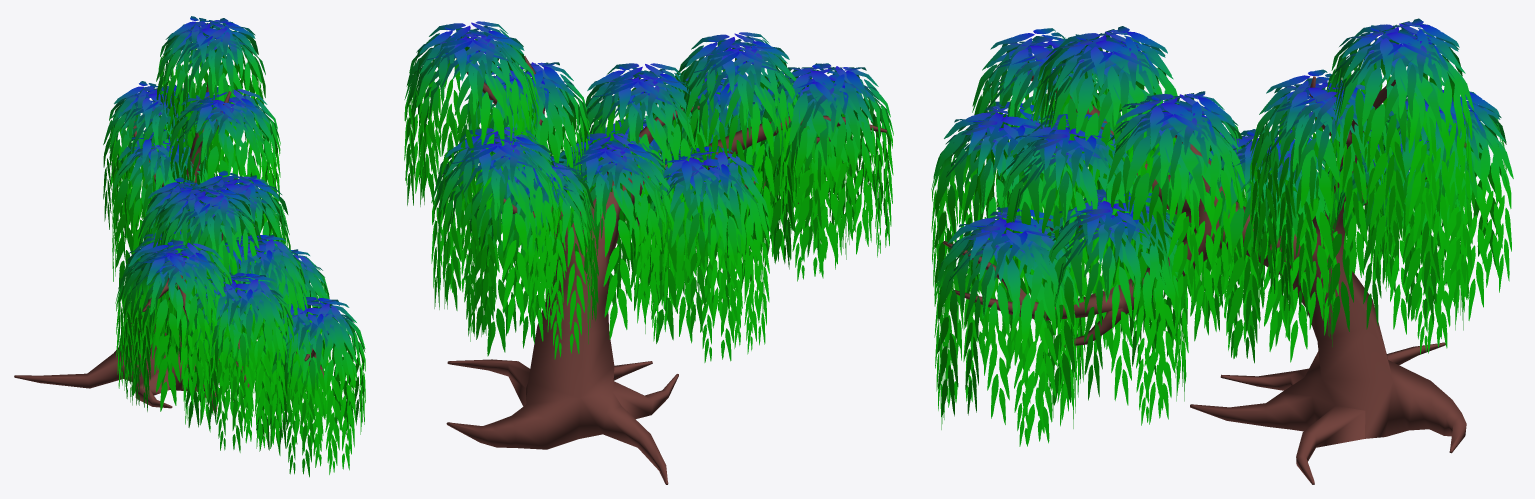
Rendered from OldWeepingWillow.fbx.
The picture shows the model from 3 angles, left to right: view 1: azimuth 30°, elevation 25°; view 2: azimuth 150°, elevation 25°; view 3: azimuth 270°, elevation 25°; orthographic projection. The views are drawn at different scales.
Parts seen in each view (by area): view 1: Willow Leaves.001, Willow Leaves.050, Willow Leaves.055, Willow Trunk 01.002, Willow Leaves.003, Willow Leaves.002, Willow Leaves.010, Willow Leaves.054, Willow Leaves.049, Willow Leaves.048, Willow Leaves.053, Willow Leaves.005 (+45 smaller); view 2: Willow Trunk 01.002, Willow Leaves.012, Willow Leaves.011, Willow Leaves.005, Willow Leaves.056, Willow Leaves.007, Willow Leaves.040, Willow Leaves.038, Willow Leaves.006, Willow Leaves.022, Willow Leaves.036, Willow Leaves.032 (+39 smaller); view 3: Willow Trunk 01.002, Willow Leaves.046, Willow Leaves.010, Willow Leaves.041, Willow Leaves.030, Willow Leaves.006, Willow Leaves.017, Willow Leaves.042, Willow Leaves.047, Willow Leaves.048, Willow Leaves.008, Willow Leaves.019 (+45 smaller).
Boxes of the visible parts, left/top/right/bottom form: Willow Leaves.001: left=144, top=250, right=214, bottom=411; Willow Leaves.050: left=279, top=299, right=346, bottom=467; Willow Leaves.055: left=208, top=275, right=276, bottom=443; Willow Trunk 01.002: left=14, top=82, right=323, bottom=413; Willow Leaves.003: left=129, top=253, right=227, bottom=418; Willow Leaves.002: left=123, top=242, right=231, bottom=411; Willow Leaves.010: left=164, top=16, right=258, bottom=175; Willow Leaves.054: left=195, top=283, right=286, bottom=450; Willow Leaves.049: left=277, top=307, right=357, bottom=474; Willow Leaves.048: left=265, top=306, right=355, bottom=477; Willow Leaves.053: left=195, top=283, right=282, bottom=452; Willow Leaves.005: left=123, top=240, right=233, bottom=398; Willow Trunk 01.002: left=446, top=56, right=886, bottom=484; Willow Leaves.012: left=440, top=132, right=554, bottom=337; Willow Leaves.011: left=437, top=132, right=556, bottom=333; Willow Leaves.005: left=786, top=67, right=867, bottom=261; Willow Leaves.056: left=559, top=142, right=662, bottom=339; Willow Leaves.007: left=416, top=27, right=527, bottom=228; Willow Leaves.040: left=655, top=146, right=765, bottom=348; Willow Leaves.038: left=664, top=162, right=743, bottom=362; Willow Leaves.006: left=407, top=25, right=532, bottom=210; Willow Leaves.022: left=483, top=156, right=588, bottom=359; Willow Leaves.036: left=647, top=153, right=754, bottom=343; Willow Leaves.032: left=686, top=36, right=789, bottom=238; Willow Trunk 01.002: left=943, top=75, right=1466, bottom=484; Willow Leaves.046: left=959, top=219, right=1060, bottom=446; Willow Leaves.010: left=1330, top=18, right=1467, bottom=245; Willow Leaves.041: left=1059, top=201, right=1178, bottom=425; Willow Leaves.030: left=1119, top=91, right=1235, bottom=316; Willow Leaves.006: left=1339, top=25, right=1462, bottom=258; Willow Leaves.017: left=1274, top=80, right=1373, bottom=300; Willow Leaves.042: left=1048, top=194, right=1181, bottom=405; Willow Leaves.047: left=936, top=211, right=1082, bottom=416; Willow Leaves.048: left=939, top=224, right=1079, bottom=446; Willow Leaves.008: left=1356, top=37, right=1448, bottom=255; Willow Leaves.019: left=1255, top=83, right=1389, bottom=316.
Size of the model in its own units: 2.53 by 2.93 by 3.61.
